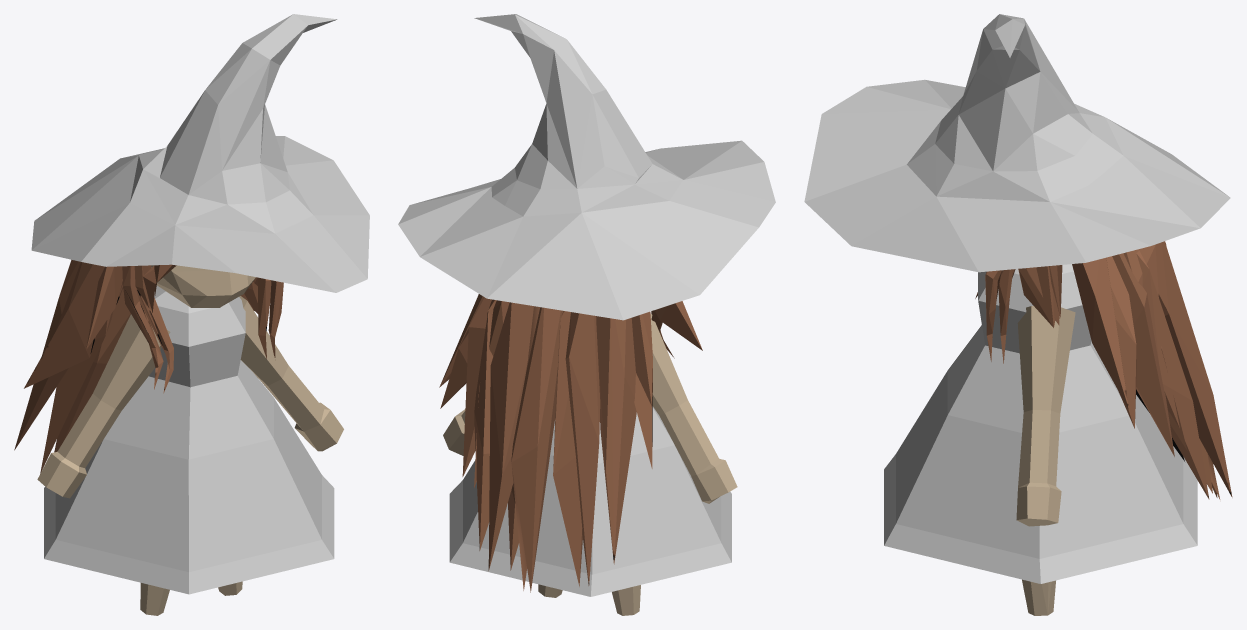
Rendered from AnnaSpace.fbx.
3 renders of one model, left to right at view 1: azimuth 30°, elevation 25°; view 2: azimuth 150°, elevation 25°; view 3: azimuth 270°, elevation 25°, orthographic. The views are drawn at different scales.
Parts seen in each view (by area): view 1: Cylinder.003, Cube.013, Cube.012; view 2: Cube.013, Cube.012, Cylinder.003; view 3: Cube.013, Cylinder.003, Cube.012.
Part boxes in pixels (bbox=[...]): Cylinder.003: bbox=[44, 285, 334, 594]; Cube.013: bbox=[31, 14, 369, 292]; Cube.012: bbox=[14, 259, 343, 615]; Cube.013: bbox=[398, 14, 775, 320]; Cube.012: bbox=[439, 294, 737, 615]; Cylinder.003: bbox=[449, 406, 731, 596]; Cube.013: bbox=[804, 14, 1230, 272]; Cylinder.003: bbox=[884, 264, 1197, 583]; Cube.012: bbox=[975, 241, 1232, 615].
Bounding box in the file's own units: 189 × 332 × 207.
